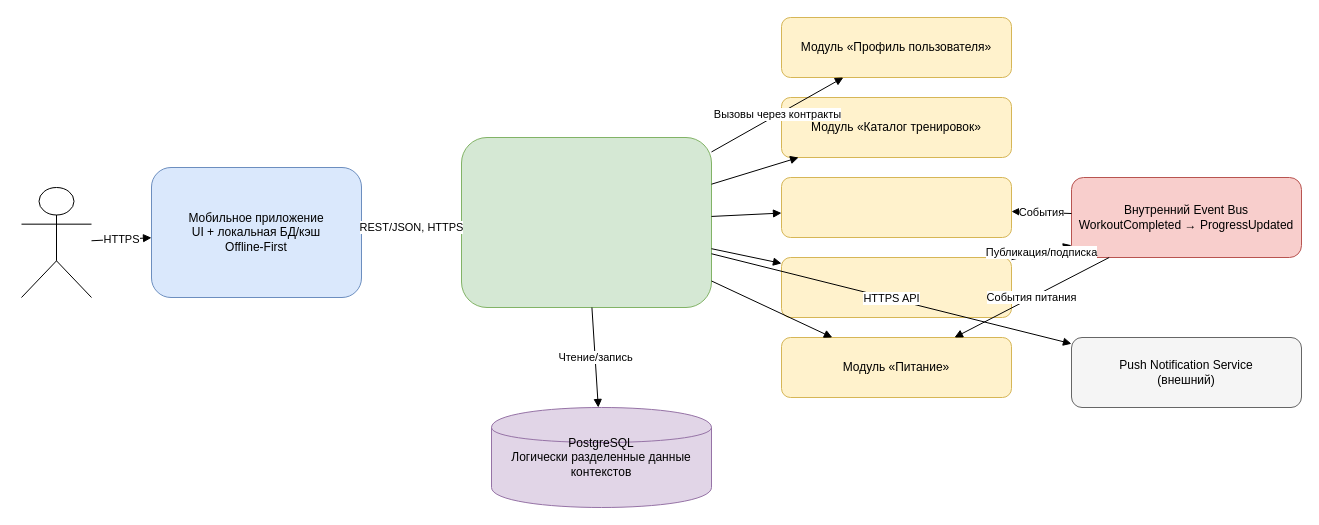
This 1319x525 diagram has some shape labels left out. Here are the shapes that lost their labels. From the top down, the box of each, then its label:
(460, 136, 712, 308): Backend API Модульный монолит REST / JSON / JWT
(780, 176, 1012, 238): Модуль «Персональный план и прогресс»
(20, 186, 92, 298): Пользователь
(780, 256, 1012, 318): Модуль «Тренировка и анализ техники»
